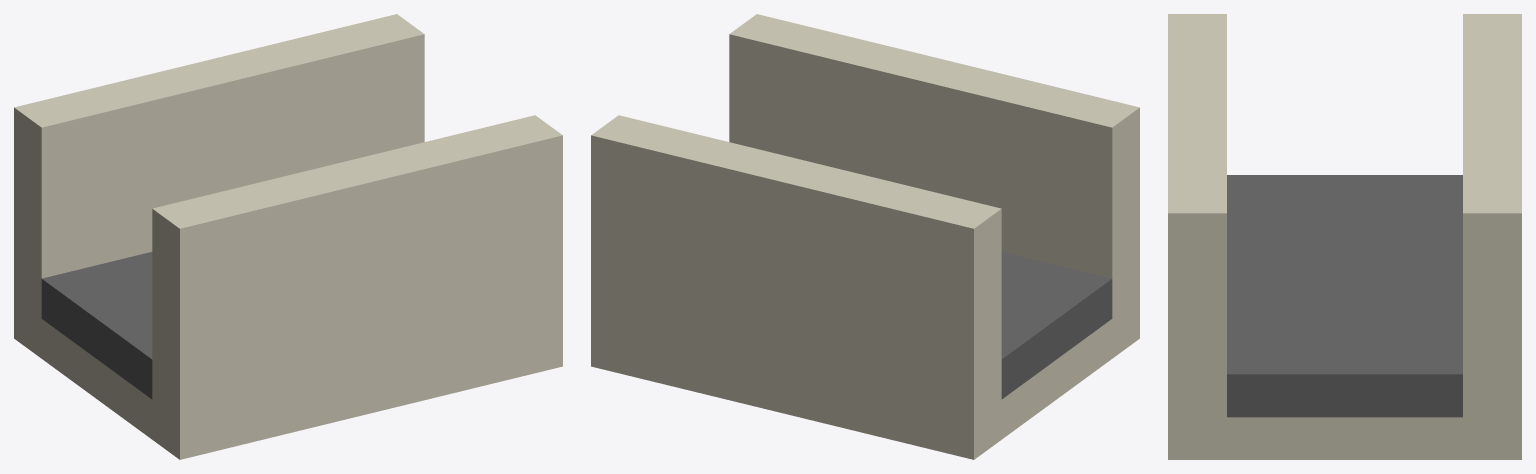
File: tile121.fbx
3 views of the same model, side by side, from view 1: azimuth 30°, elevation 25°; view 2: azimuth 150°, elevation 25°; view 3: azimuth 270°, elevation 25° (orthographic). The views are drawn at different scales.
Parts seen in each view (by area): view 1: tile121; view 2: tile121; view 3: tile121.
Boxes of the visible parts, box(x1,y1,x2,y2) form: tile121: box(14, 14, 562, 459); tile121: box(591, 14, 1139, 459); tile121: box(1168, 14, 1521, 459).
Size of the model in its own units: 10 by 5.77 by 7.5.
